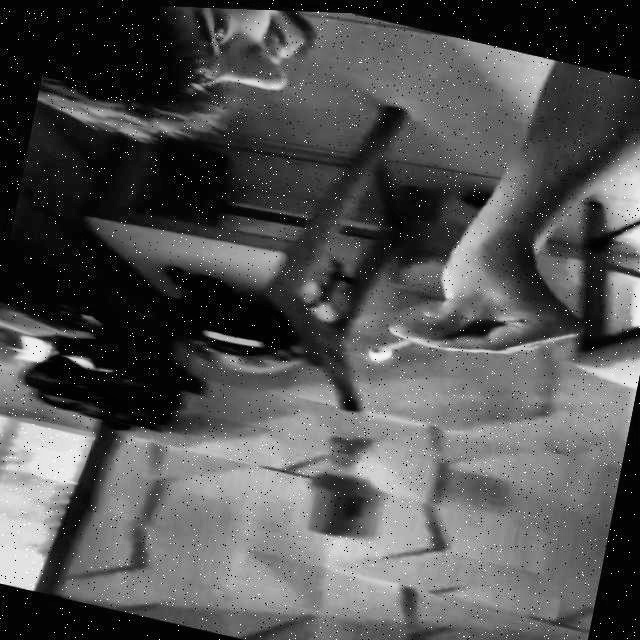Fire: (364, 336, 394, 367)
